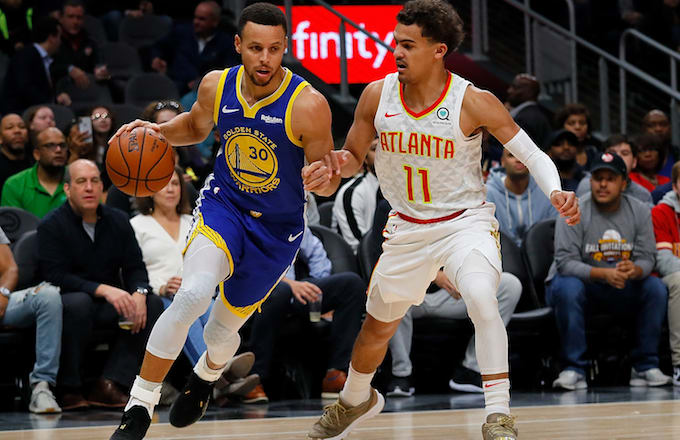Basketball: (103, 127, 178, 197)
